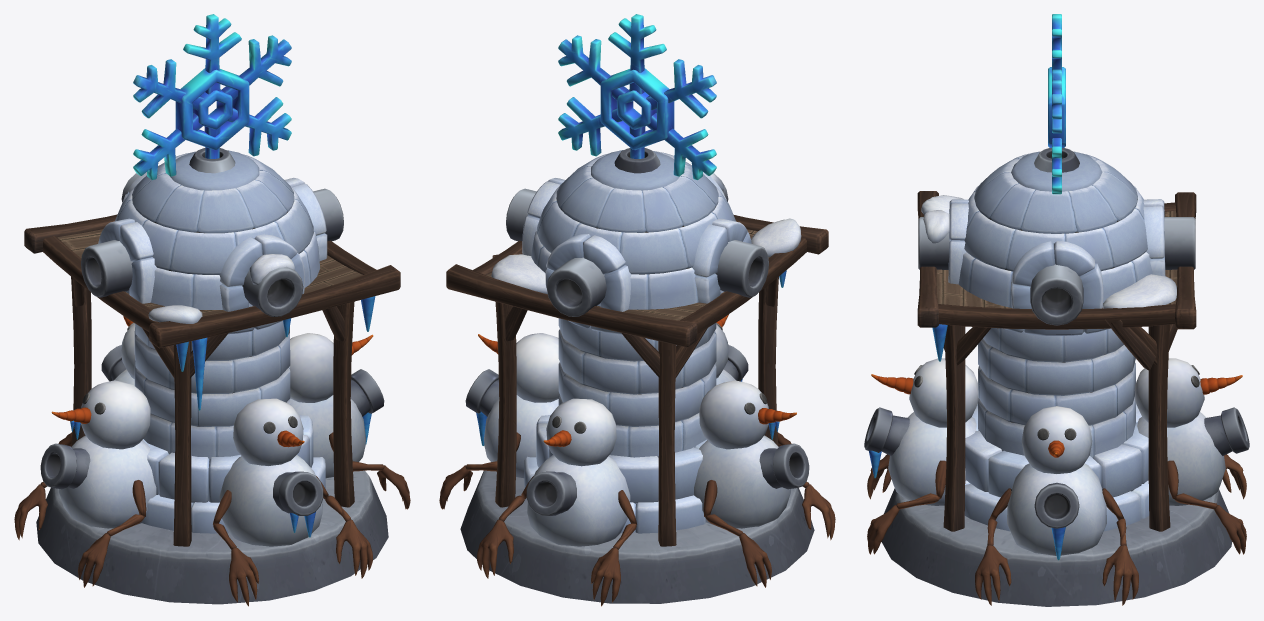
The model's file is SM_TowerDefense_Ice_Lv3.fbx.
The picture shows the model from 3 angles, left to right: view 1: azimuth 30°, elevation 25°; view 2: azimuth 150°, elevation 25°; view 3: azimuth 270°, elevation 25°; orthographic projection.
Visible parts, largest first — view 1: SM_TowerDefense_Ice_Lv3; view 2: SM_TowerDefense_Ice_Lv3; view 3: SM_TowerDefense_Ice_Lv3.
Boxes of the visible parts, x1,y1,x2,y2 form: SM_TowerDefense_Ice_Lv3: [14, 14, 410, 606]; SM_TowerDefense_Ice_Lv3: [439, 14, 835, 606]; SM_TowerDefense_Ice_Lv3: [864, 14, 1249, 606].
Bounding box in the file's own units: 1129 × 1668 × 1129.
